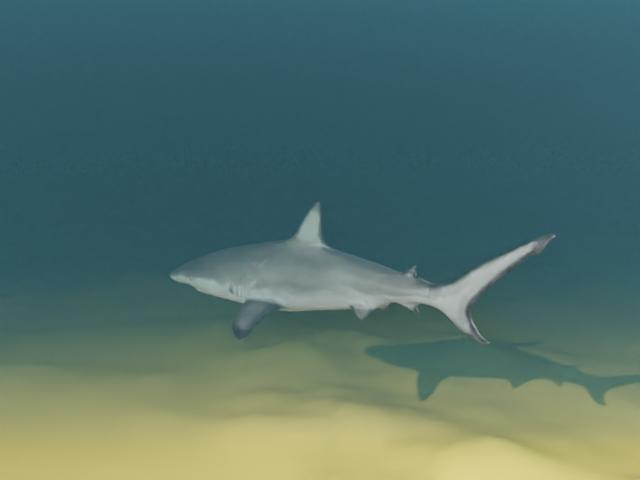Carribean Shark.001: (169, 201, 555, 345)
